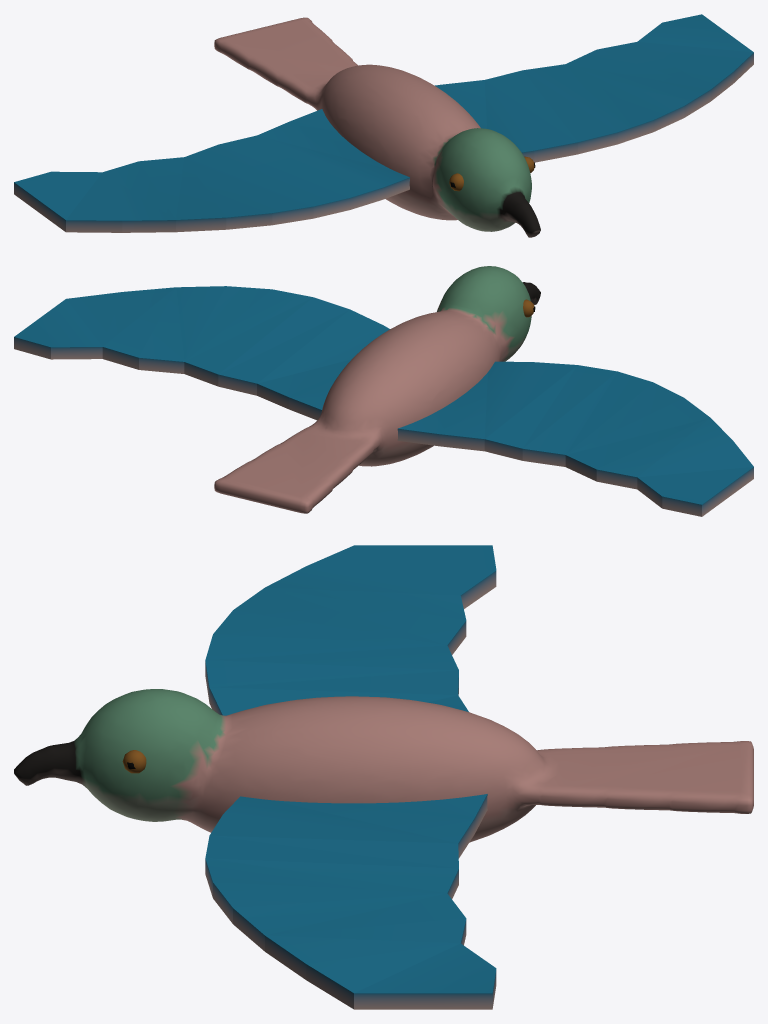
Rendered from PrimobuccoMcgrewi.fbx.
3 views of the same model, one above another, from view 1: azimuth 30°, elevation 25°; view 2: azimuth 150°, elevation 25°; view 3: azimuth 270°, elevation 25° (orthographic). The views are drawn at different scales.
Visible parts, largest first — view 1: PrimobuccoMcgrewi; view 2: PrimobuccoMcgrewi; view 3: PrimobuccoMcgrewi.
Part boxes in pixels (x1,y1,x2,y2): PrimobuccoMcgrewi: [14, 14, 753, 237]; PrimobuccoMcgrewi: [14, 266, 753, 516]; PrimobuccoMcgrewi: [14, 545, 753, 1009].
Bounding box in the file's own units: 1.3 × 0.2132 × 0.9077.
